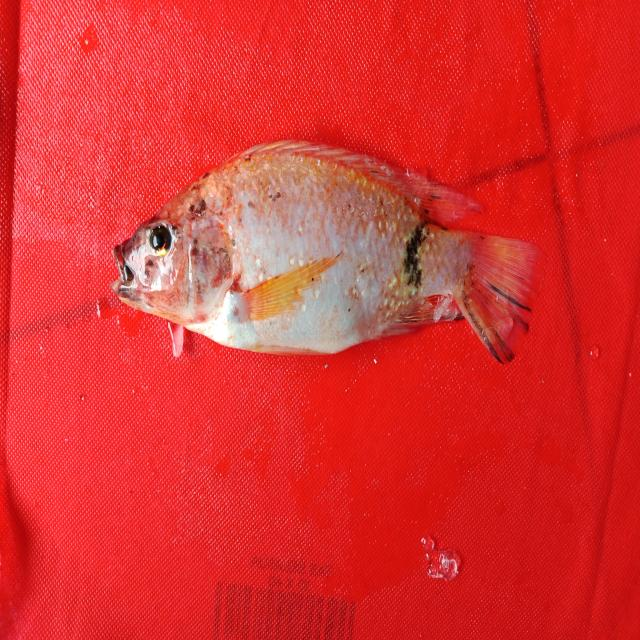ikan: (92, 97, 552, 407)
